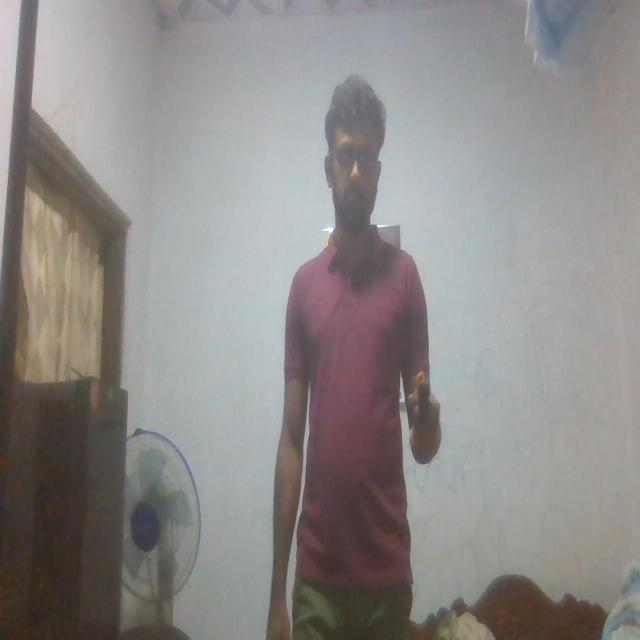Gun_Holder: (403, 366, 443, 457)
Person: (270, 79, 454, 640)
